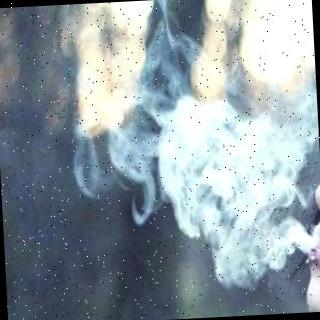smoke: (123, 39, 317, 295)
